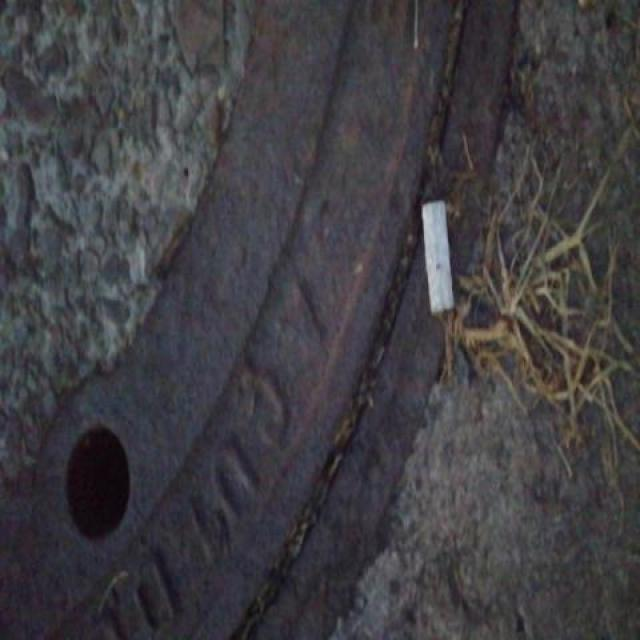non-organic waste: (416, 196, 456, 320)
